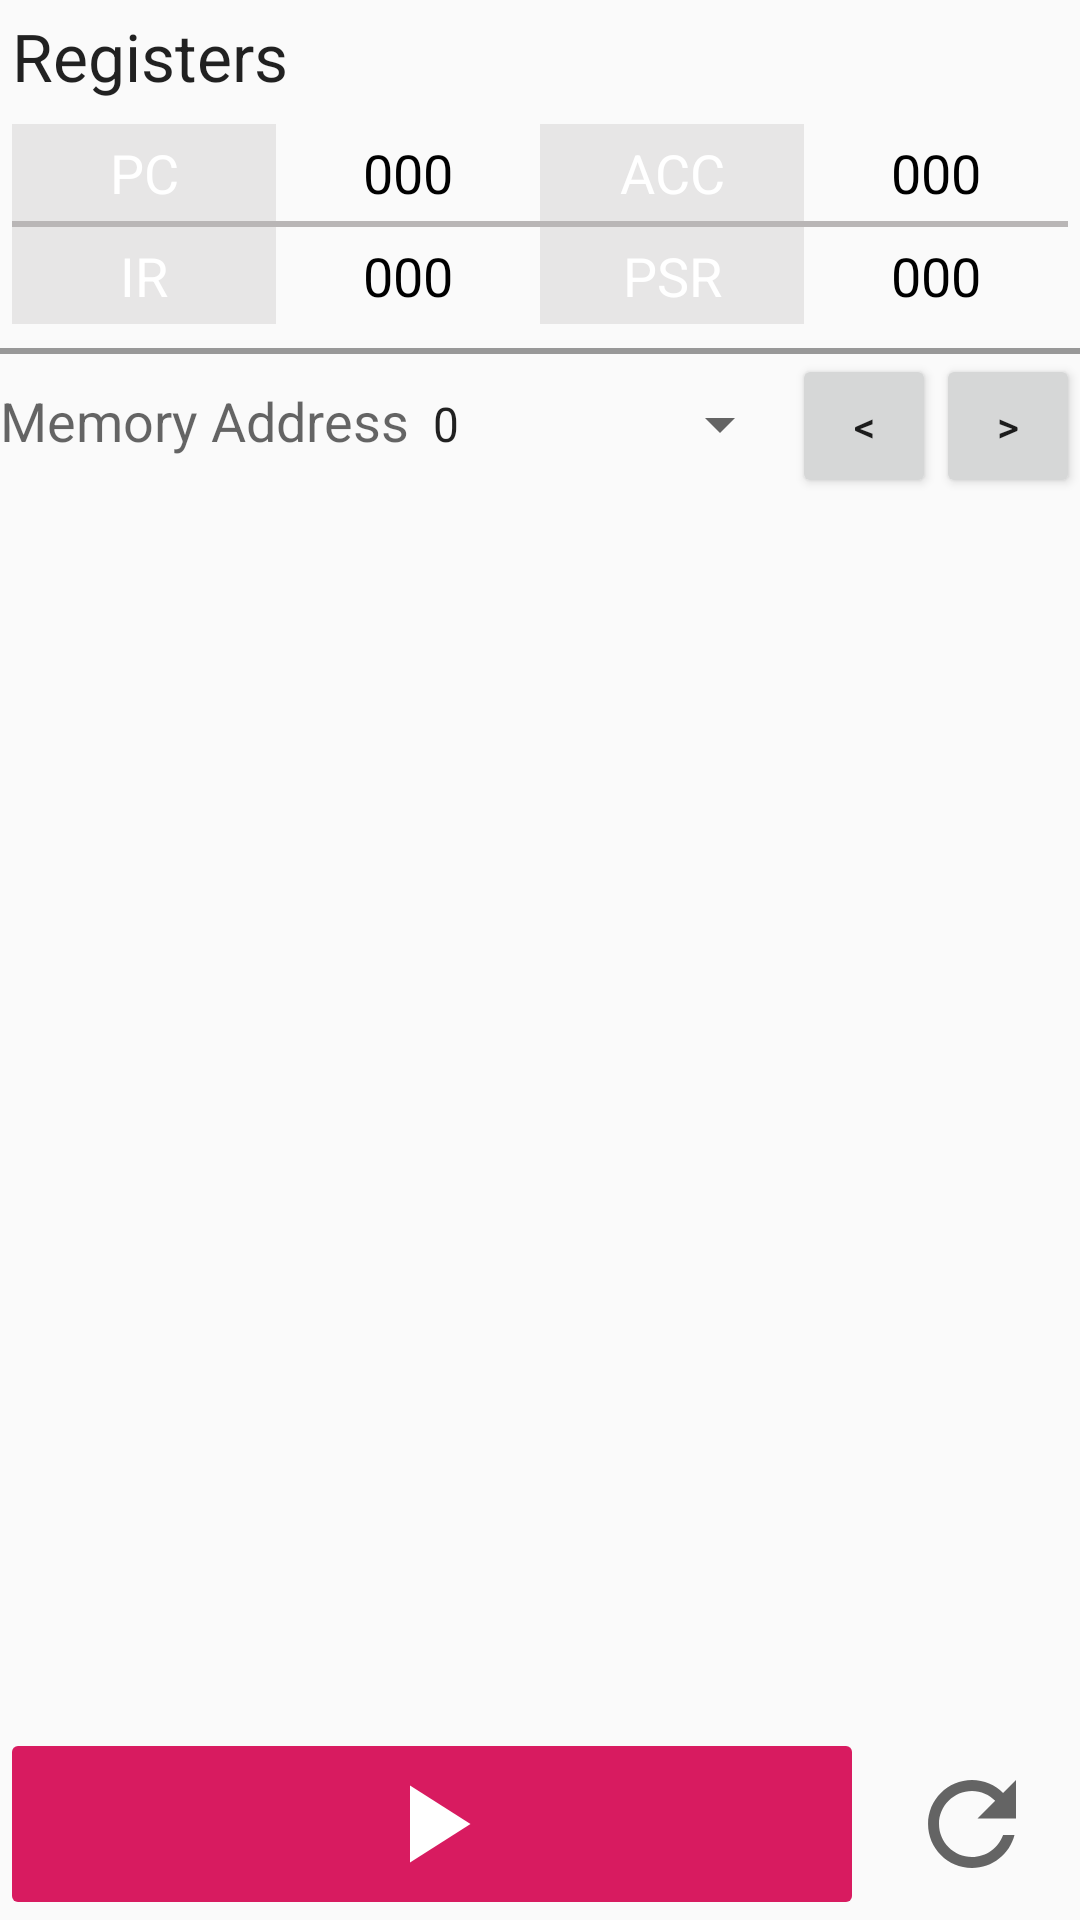

Where icons sit on this 1080px×1920px app screen, as (x1, y1, x2, y2):
Reset Emulator: (928, 1780, 1016, 1868)
